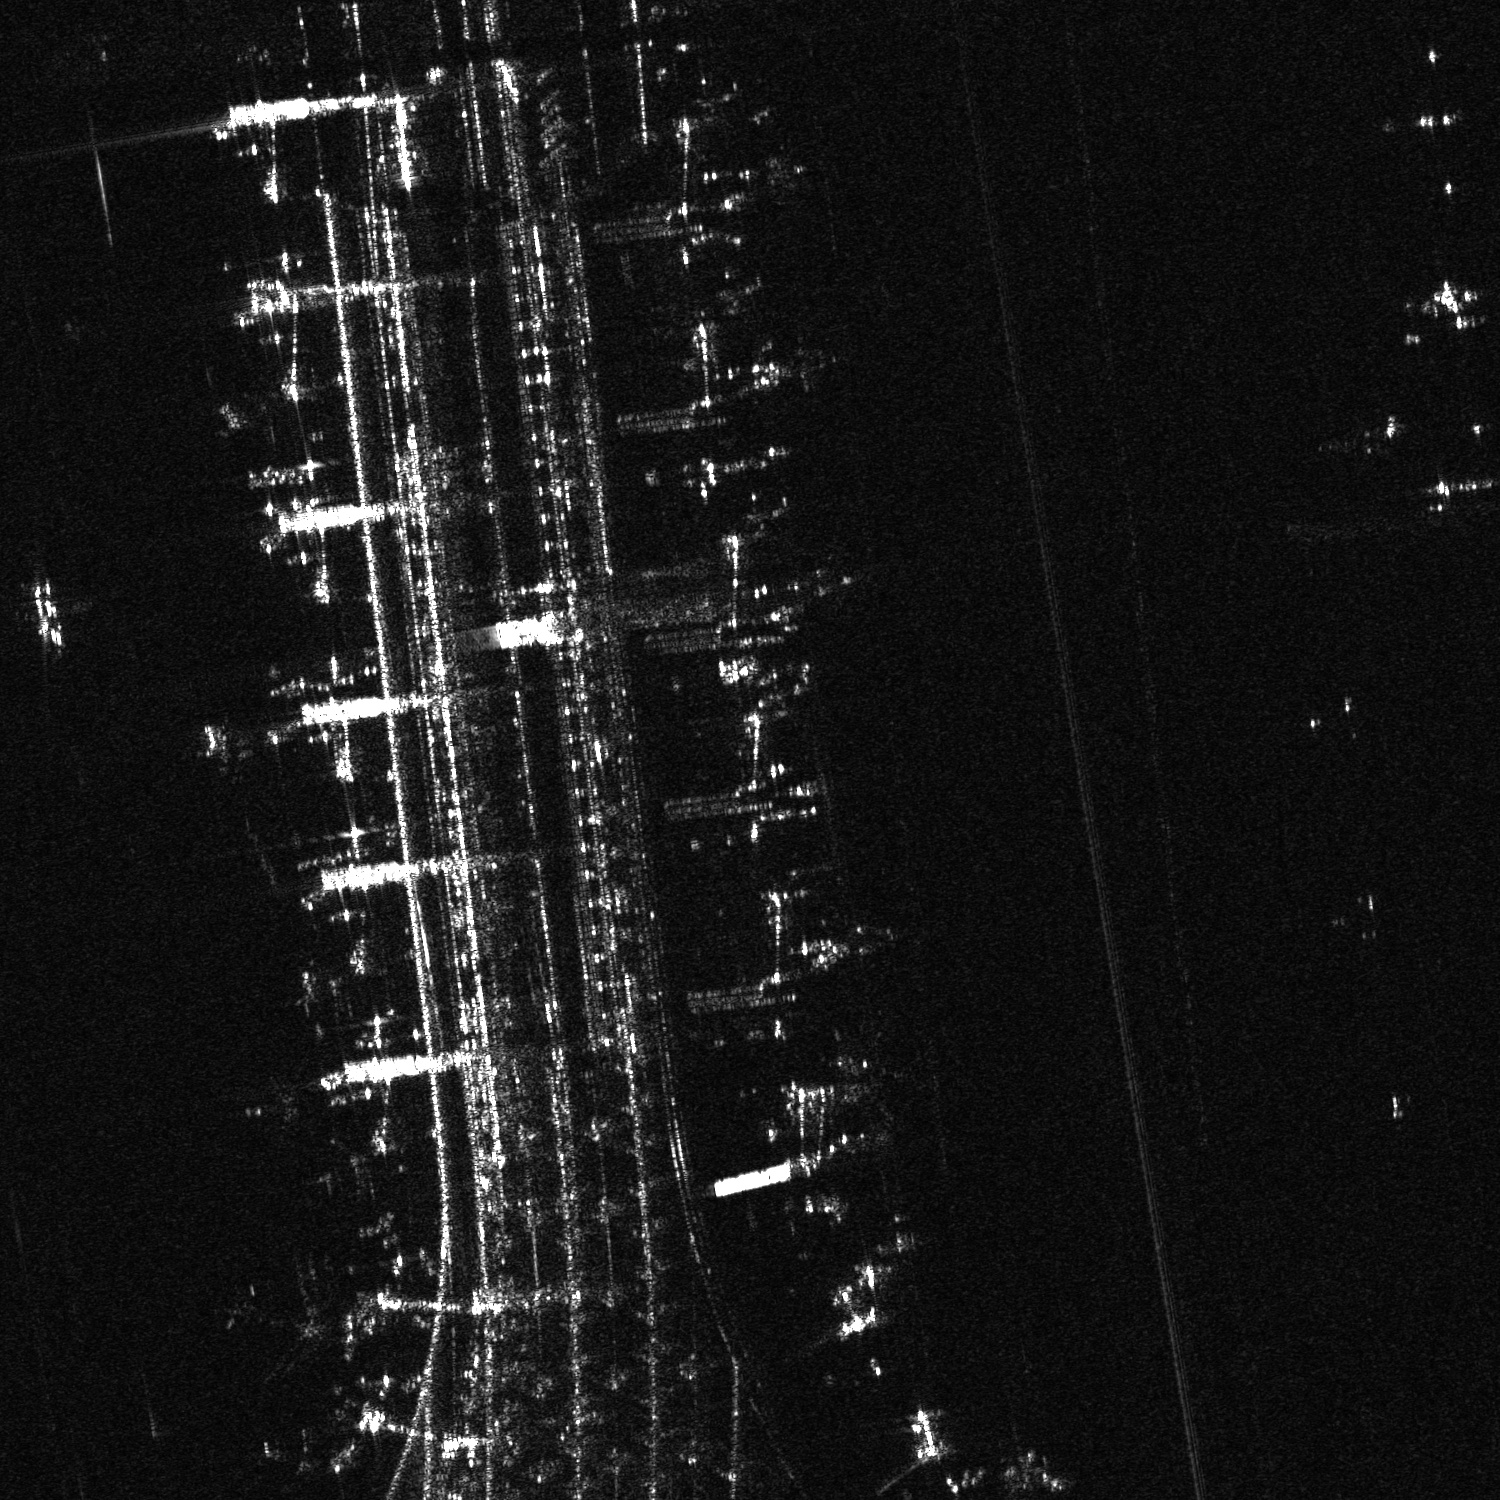A220: (262, 1426, 327, 1478)
Boeing787: (315, 1136, 374, 1201), (245, 1073, 306, 1133)
other: (224, 1255, 339, 1385)
